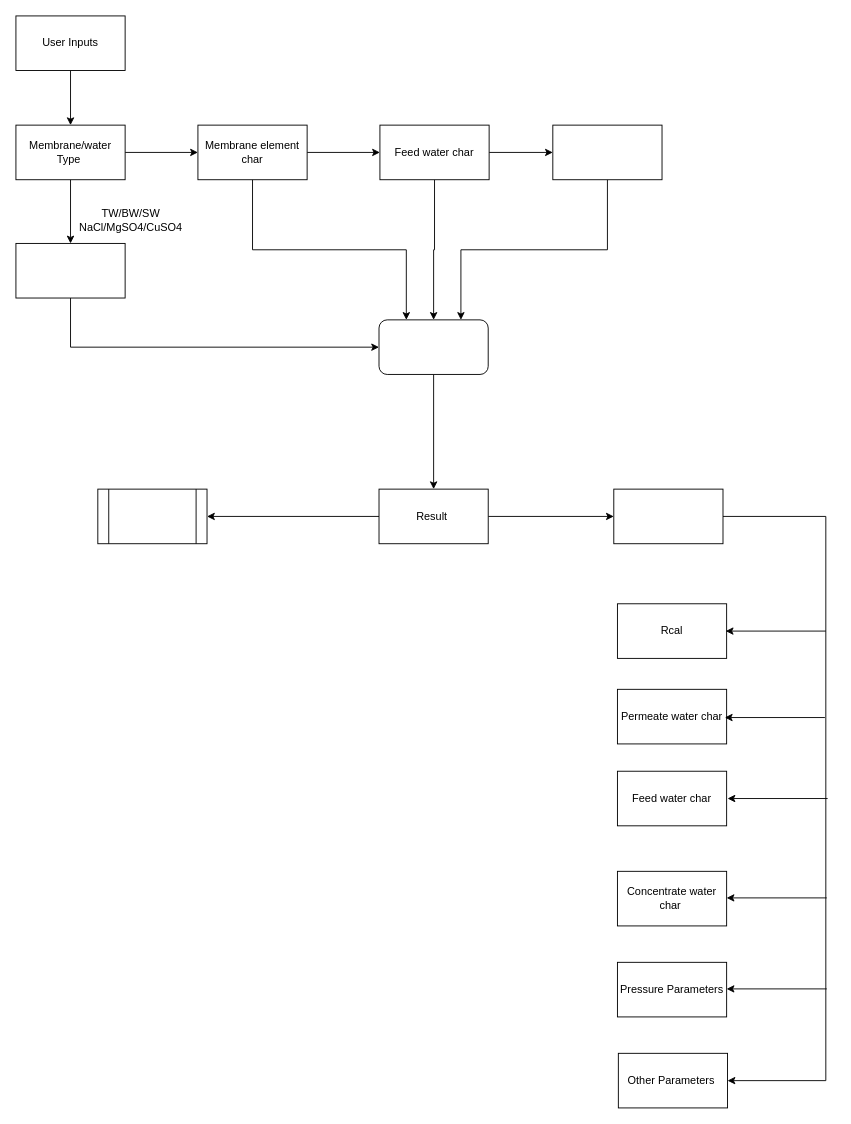
This 851x1124 diagram has some shape labels left out. Each missing label, with the box of its shape:
Detailed Result: (613, 488, 723, 544)
Excel: (97, 488, 207, 544)
Fixed parameters: (15, 243, 125, 298)
Python Script: (378, 319, 488, 374)
RO System Membrane Char: (552, 124, 662, 180)
